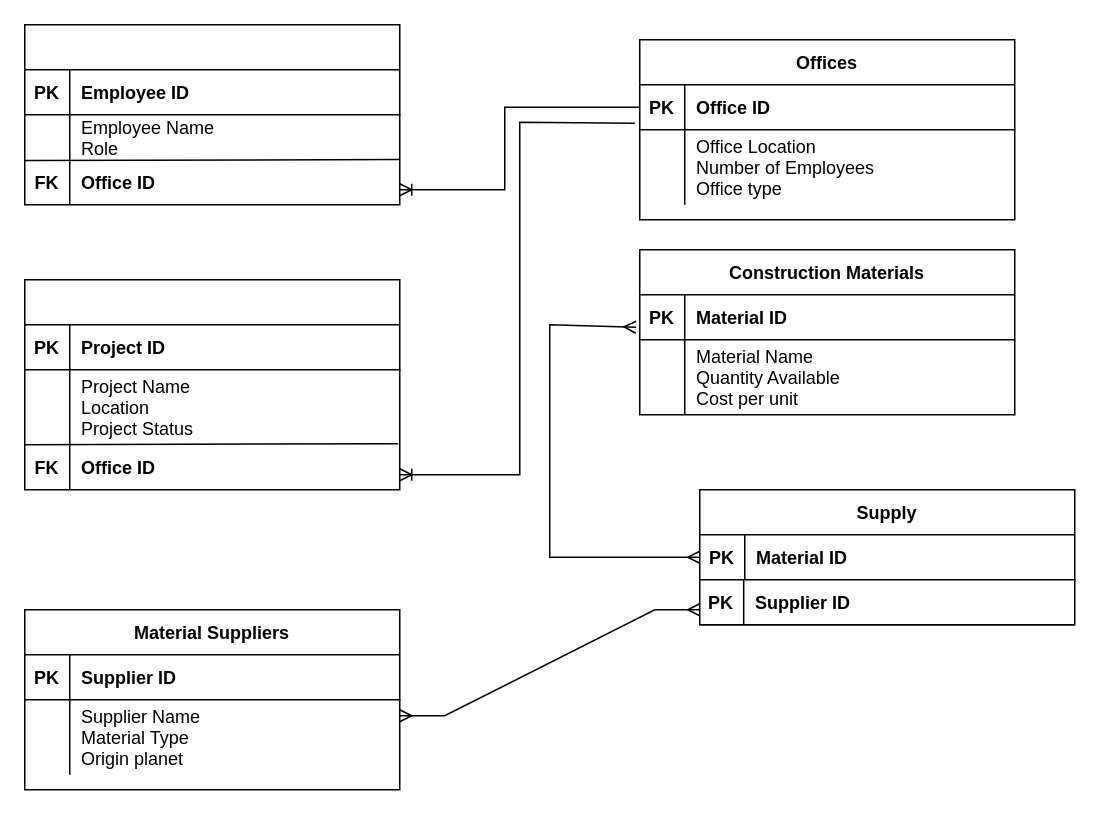
The diagram is 1100 pixels wide and 815 high, and some of its shapes have lost their labels. Here are the shapes that lost their labels. From the top down, the box of each, then its label:
(23, 23, 400, 205): Employees
(23, 278, 400, 490): Housing Projects
